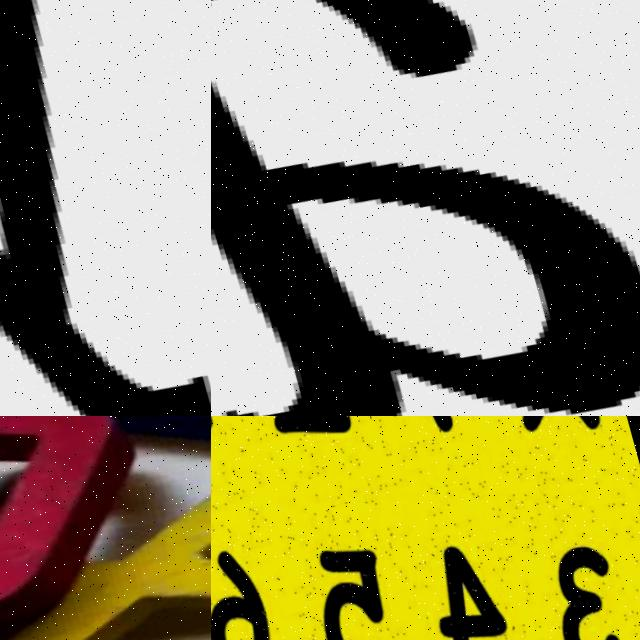3: (524, 501, 640, 640)
4: (398, 499, 543, 640)
5: (276, 486, 429, 640)
6: (211, 492, 312, 640)
A: (211, 0, 640, 416)
Y: (0, 0, 211, 416)
